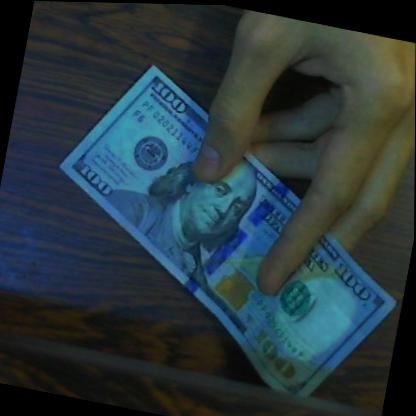one_hundred-front: (18, 43, 416, 416)
